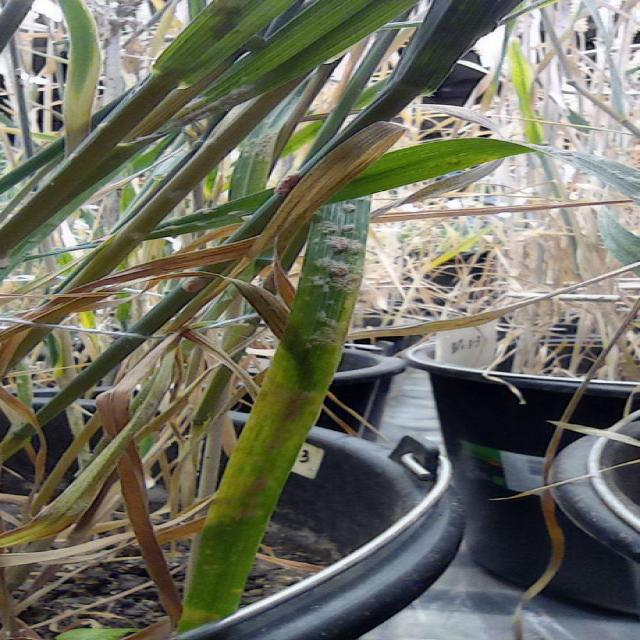wheat-powdery-mildew: (179, 196, 373, 636)
